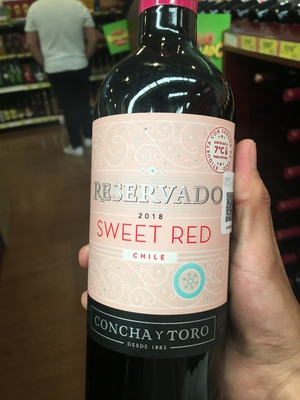reservado sweet red: (79, 25, 249, 386)
